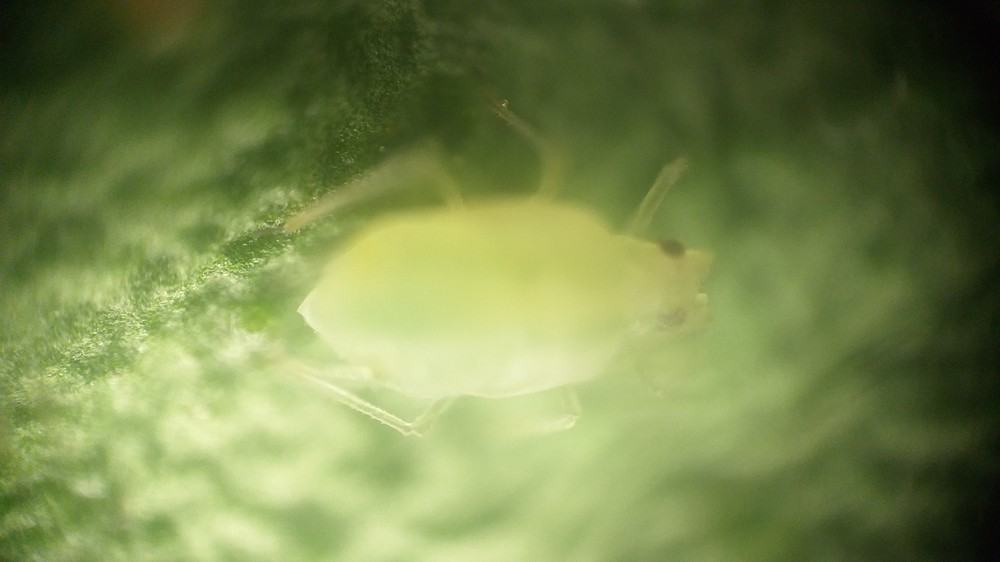Pulgon: (269, 104, 766, 505)
